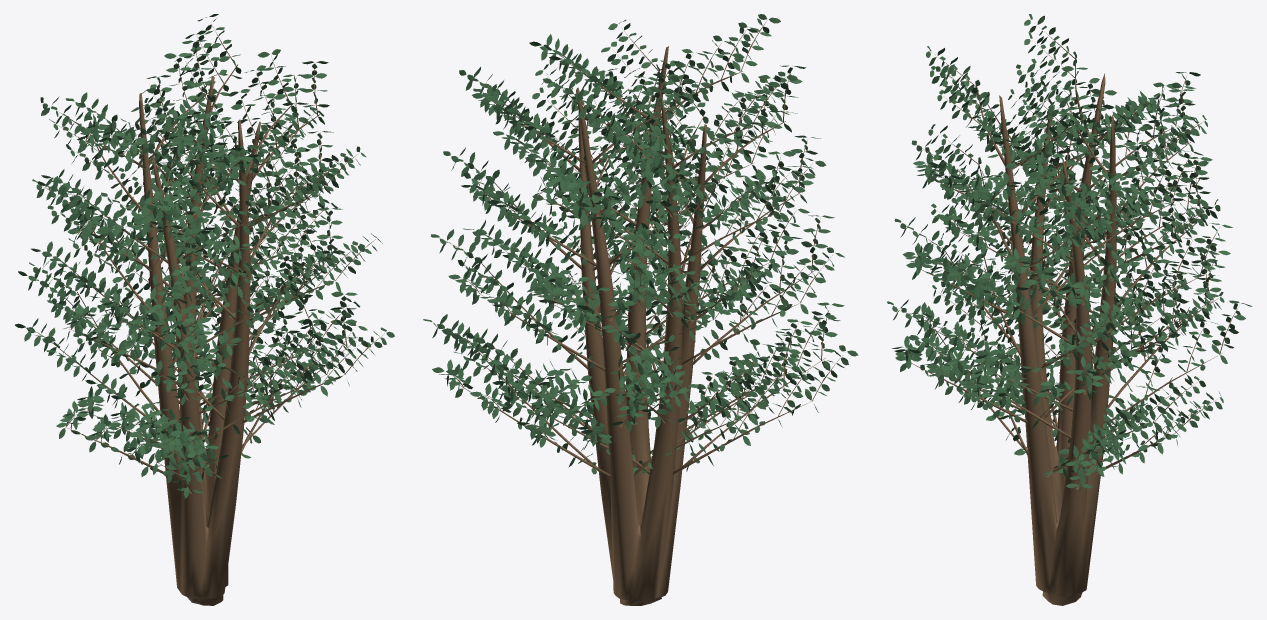
The model's file is Myrte_1_Niveau0.fbx.
The picture shows the model from 3 angles, left to right: view 1: azimuth 30°, elevation 25°; view 2: azimuth 150°, elevation 25°; view 3: azimuth 270°, elevation 25°; orthographic projection. The views are drawn at different scales.
Visible parts, largest first — view 1: Myrte_1_Niveau0_Jeu; view 2: Myrte_1_Niveau0_Jeu; view 3: Myrte_1_Niveau0_Jeu.
Part boxes in pixels (bbox=[...]): Myrte_1_Niveau0_Jeu: bbox=[15, 14, 394, 605]; Myrte_1_Niveau0_Jeu: bbox=[423, 14, 858, 605]; Myrte_1_Niveau0_Jeu: bbox=[887, 14, 1252, 605].
Bounding box in the file's own units: 136 × 193 × 122.
